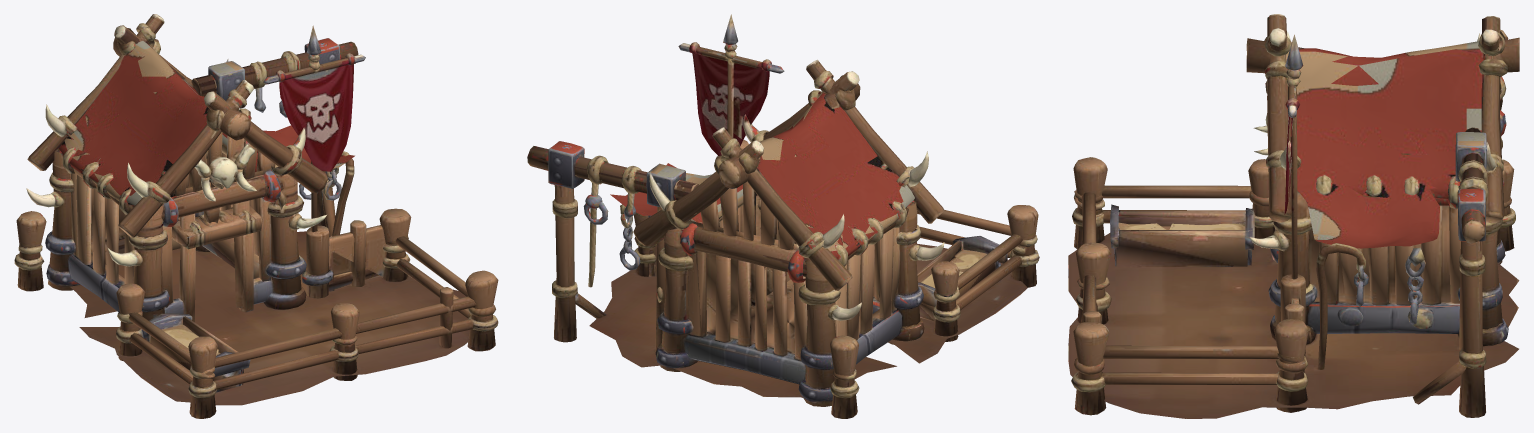
The model's file is matadero_e4.glb.
The picture shows the model from 3 angles, left to right: view 1: azimuth 30°, elevation 25°; view 2: azimuth 150°, elevation 25°; view 3: azimuth 270°, elevation 25°; orthographic projection. The views are drawn at different scales.
Size of the model in its own units: 8 by 6.45 by 8.
Materials: 1 (1 with a texture image).
